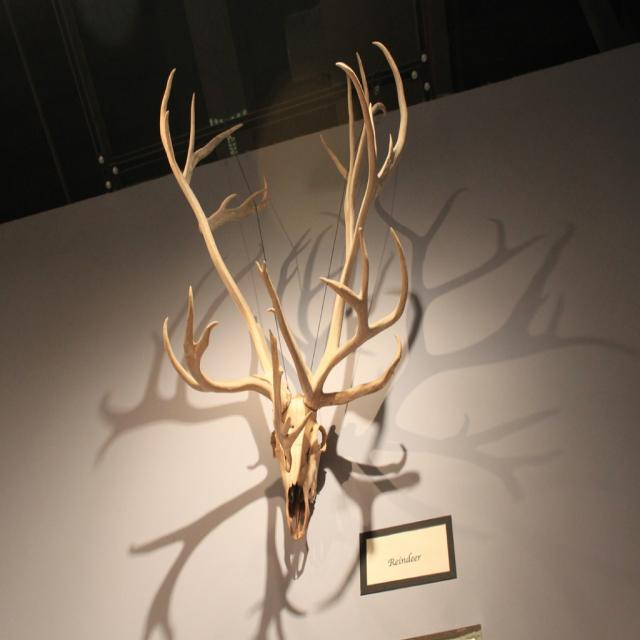Deer: (159, 41, 412, 541)
